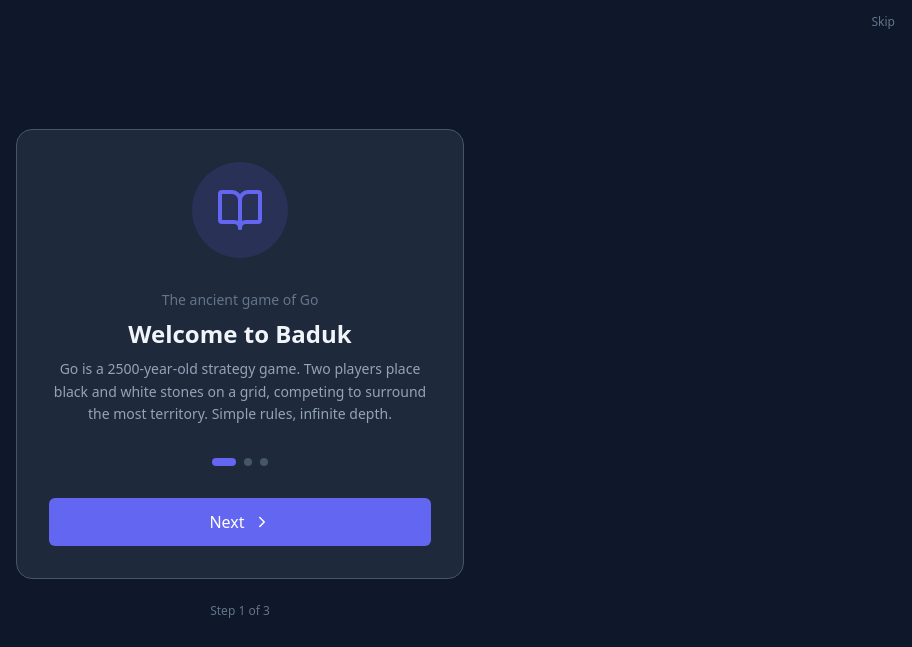
Test: OnboardingScreen › advances to step 2 when Next is clicked
What coordinates should you click on to do the following:
click the button with test id "onboarding-next-button"
I would click on:
 (240, 522)
Its box is [49,498,431,546].
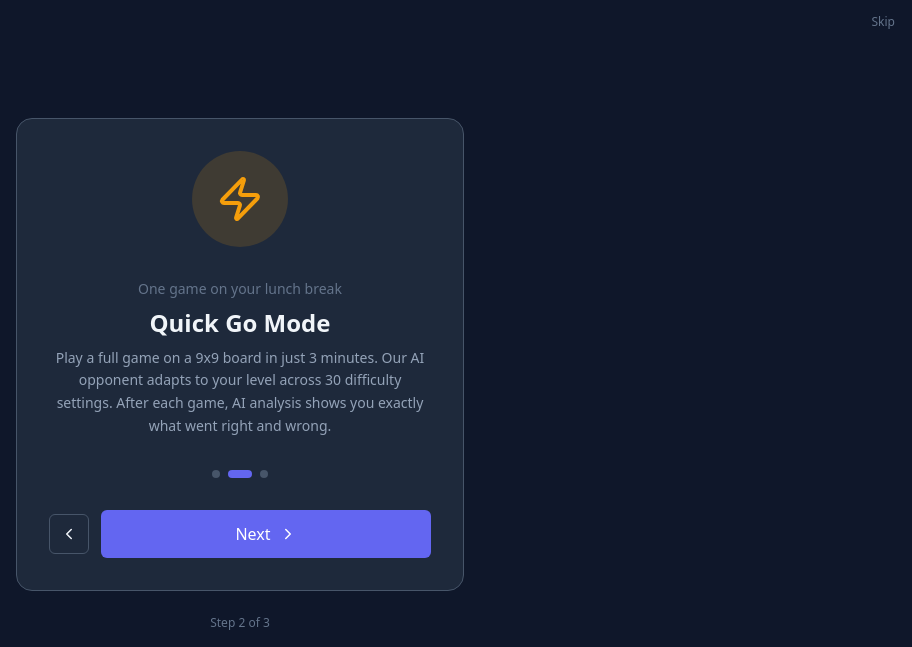
Now the heading "Quick Go Mode" is shown, box [150,306,330,338]
Now the text with test id "onboarding-step-counter" reads "Step 2 of 3", box [210,614,270,630]
